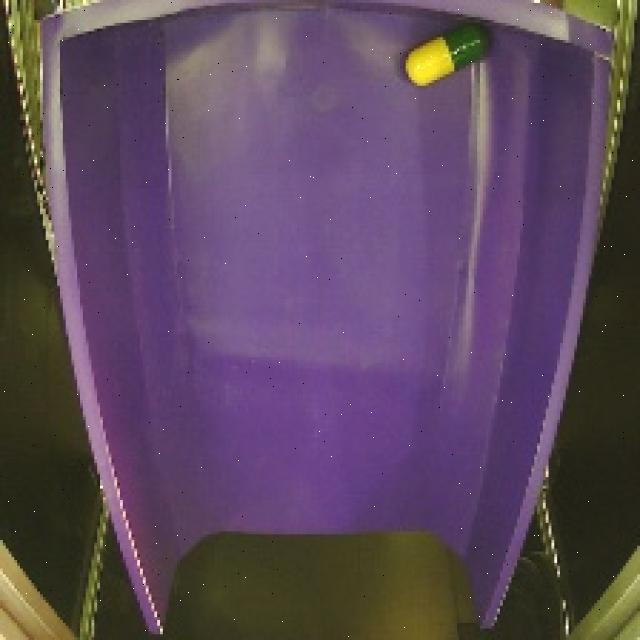small: (390, 15, 501, 93)
